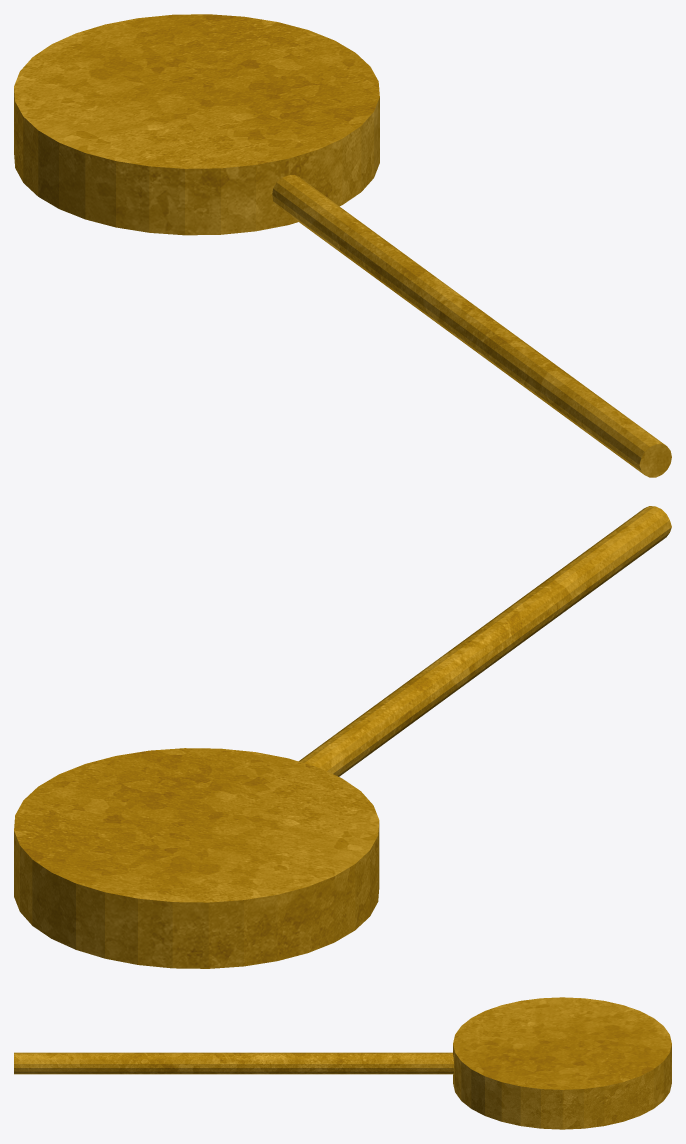
File: pendulum.glb
The picture shows the model from 3 angles, top to bottom: view 1: azimuth 30°, elevation 25°; view 2: azimuth 150°, elevation 25°; view 3: azimuth 270°, elevation 25°; orthographic projection. The views are drawn at different scales.
Visible parts, largest first — view 1: Cylinder; view 2: Cylinder; view 3: Cylinder.
Boxes of the visible parts, x1=… form: Cylinder: x1=14, y1=14, x2=671, y2=477; Cylinder: x1=14, y1=506, x2=671, y2=968; Cylinder: x1=14, y1=997, x2=671, y2=1129.
Size of the model in its own units: 1.61 by 0.3218 by 4.83.
Materials: 1 (1 with a texture image).
